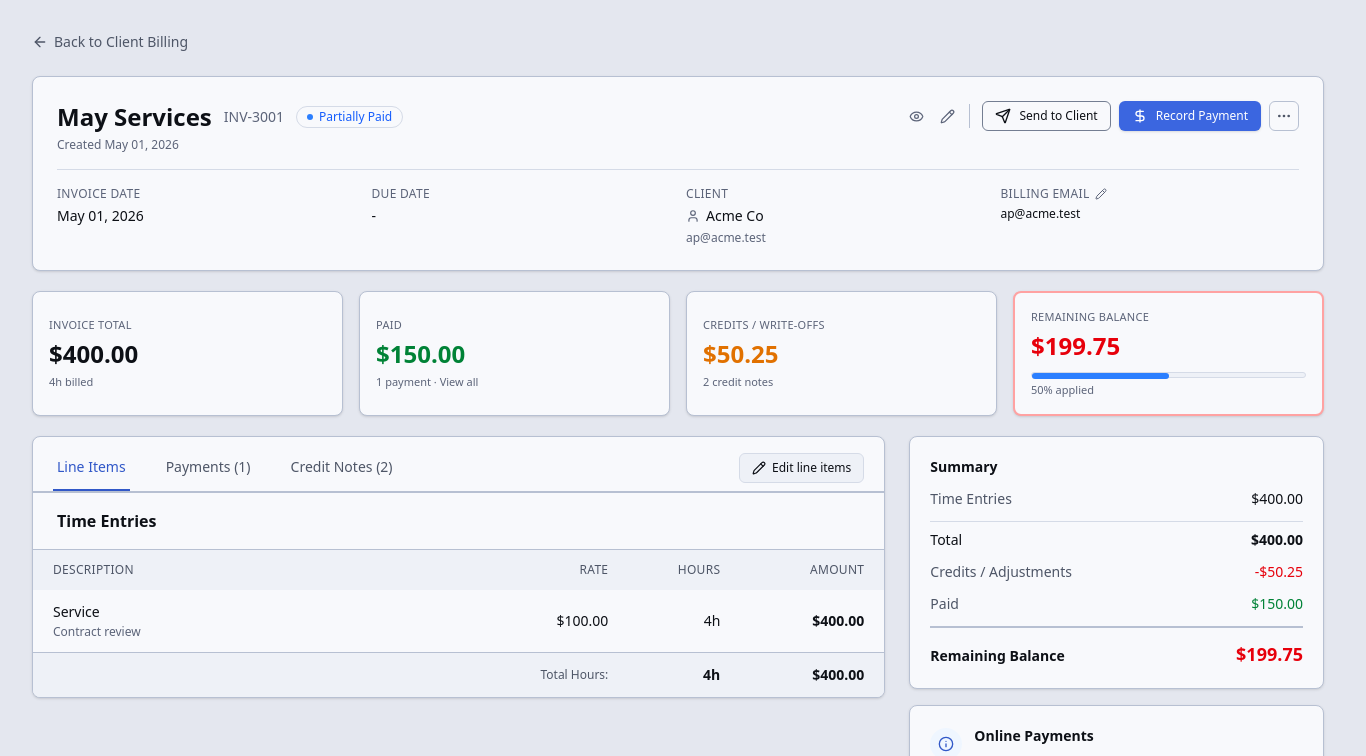
Test: credit notes already on the invoice › lists each credit note with a negative amount and its type
Click the button "Credit Notes (2)" at (342, 468), box [287,445,397,491]
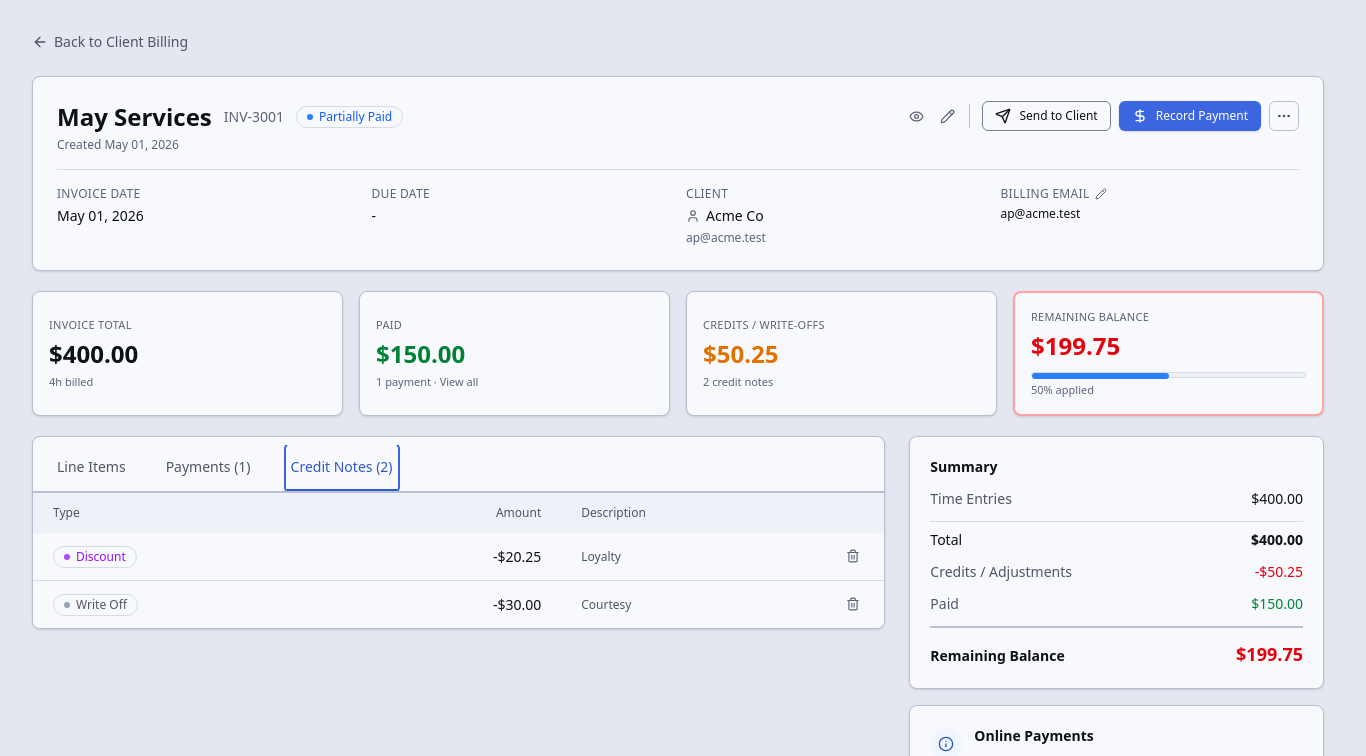
Expected: the text "Discount" is shown, [53,546,137,568]
Expected: the text "-$20.25" is shown, [342,533,561,580]
